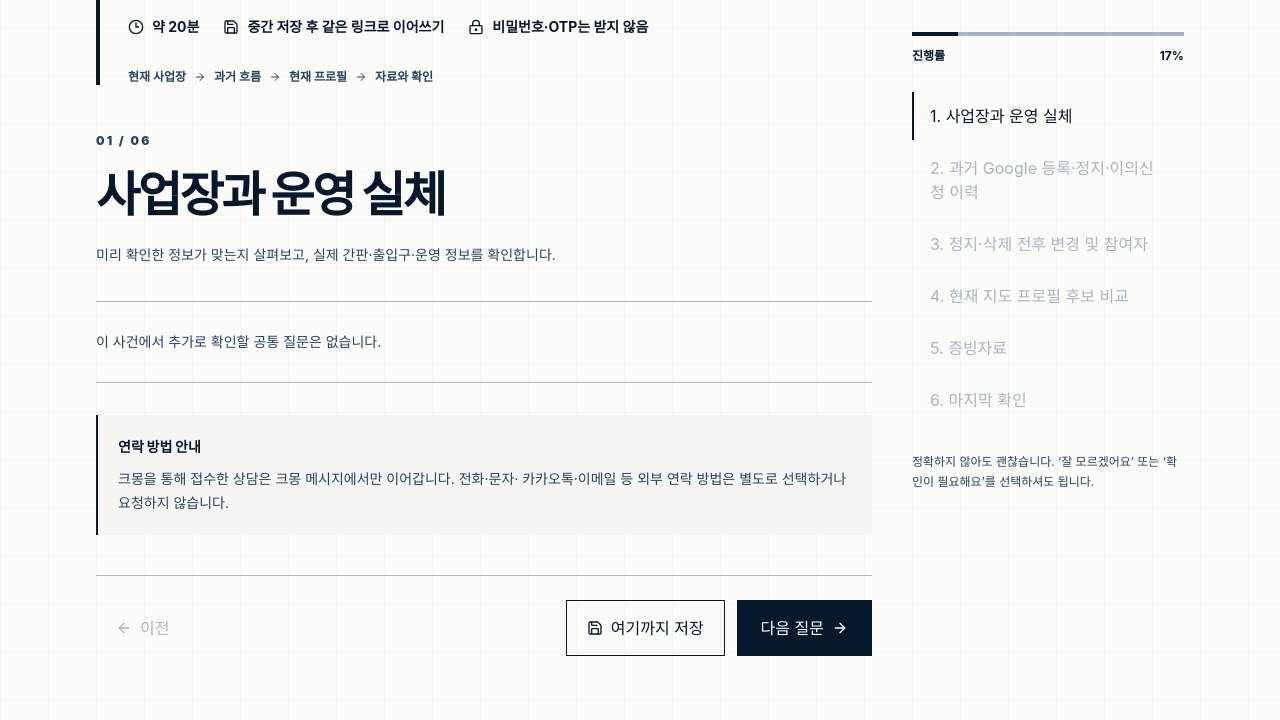
Test case: customer intake step navigation › moves exactly one step for each next click
(page scrolled)
Click the button "다음 질문".
click(804, 628)  # box [737,600,872,656]
(page scrolled)
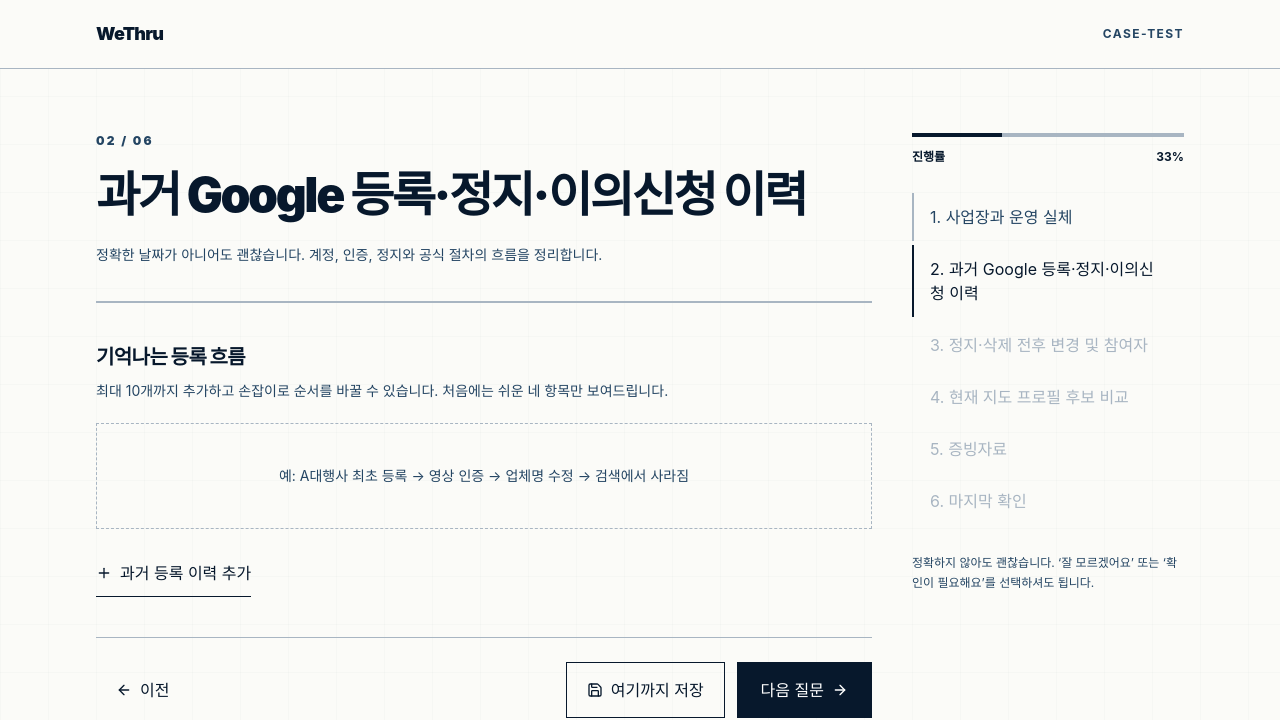
Click the button "다음 질문".
click(804, 690)  # box [737,662,872,718]
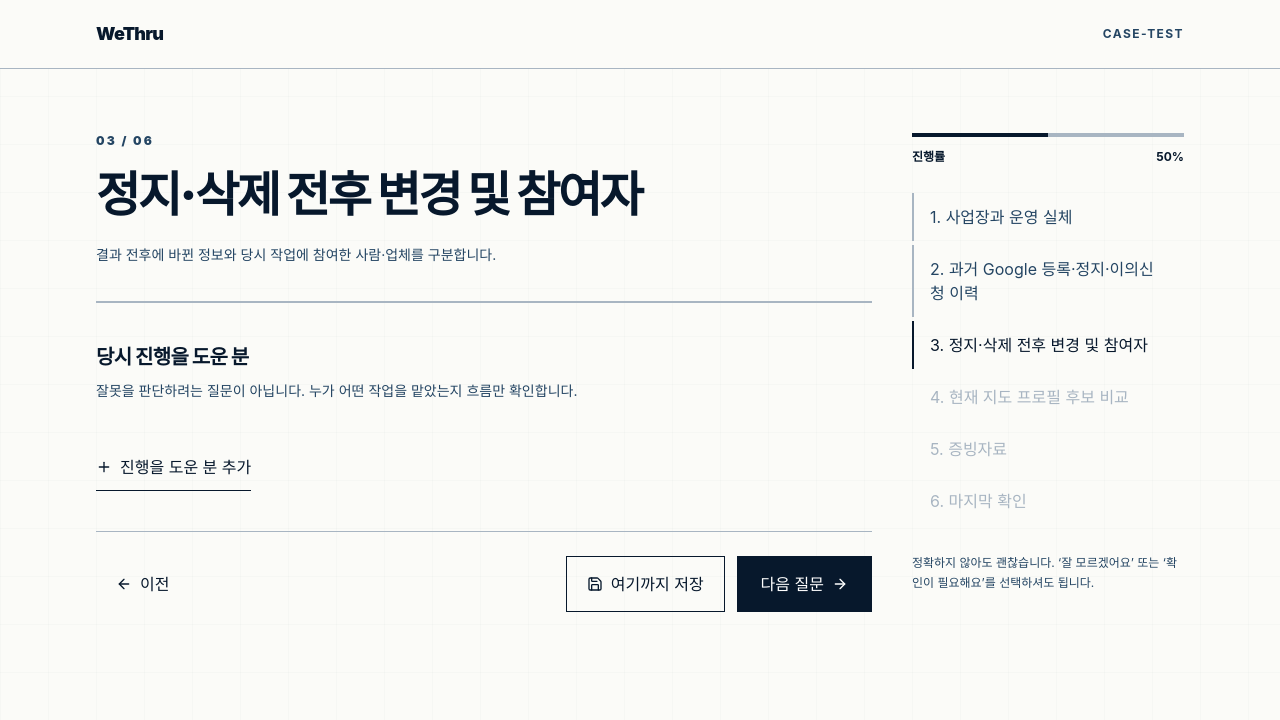
Click the button "다음 질문".
click(804, 584)  # box [737,556,872,612]
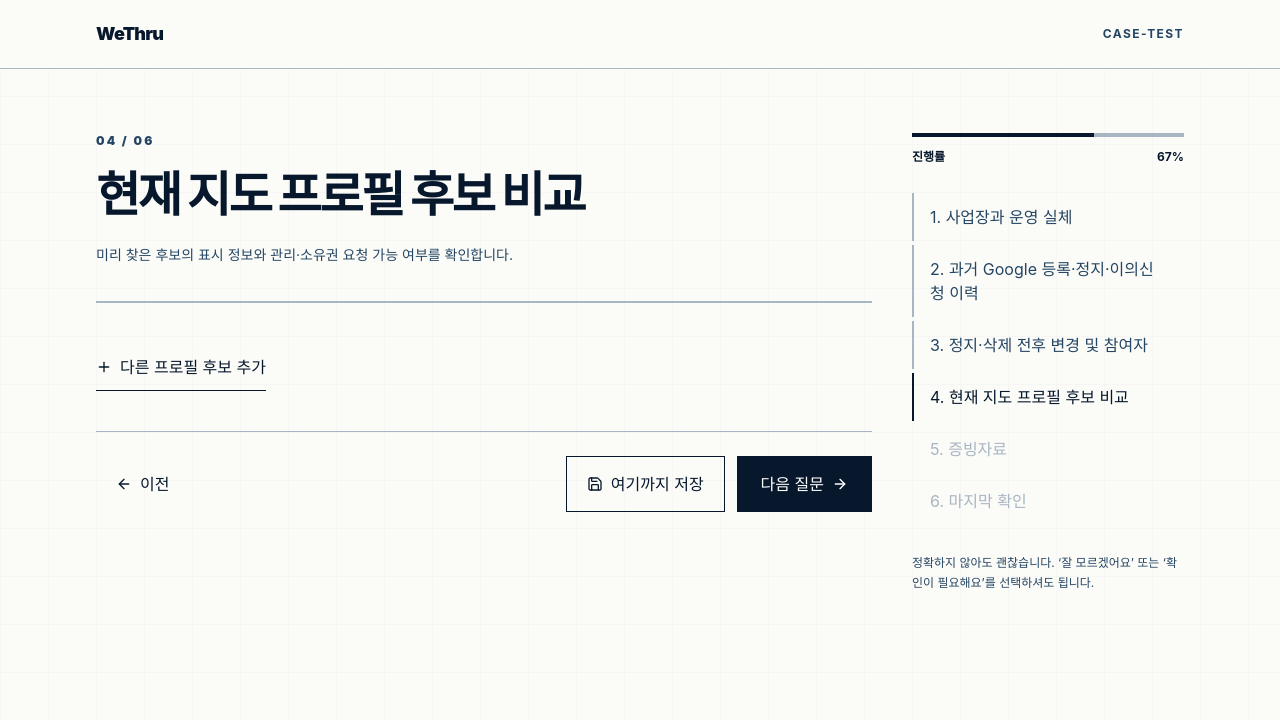
Click the button "다음 질문".
click(804, 484)  # box [737,456,872,512]
(page scrolled)
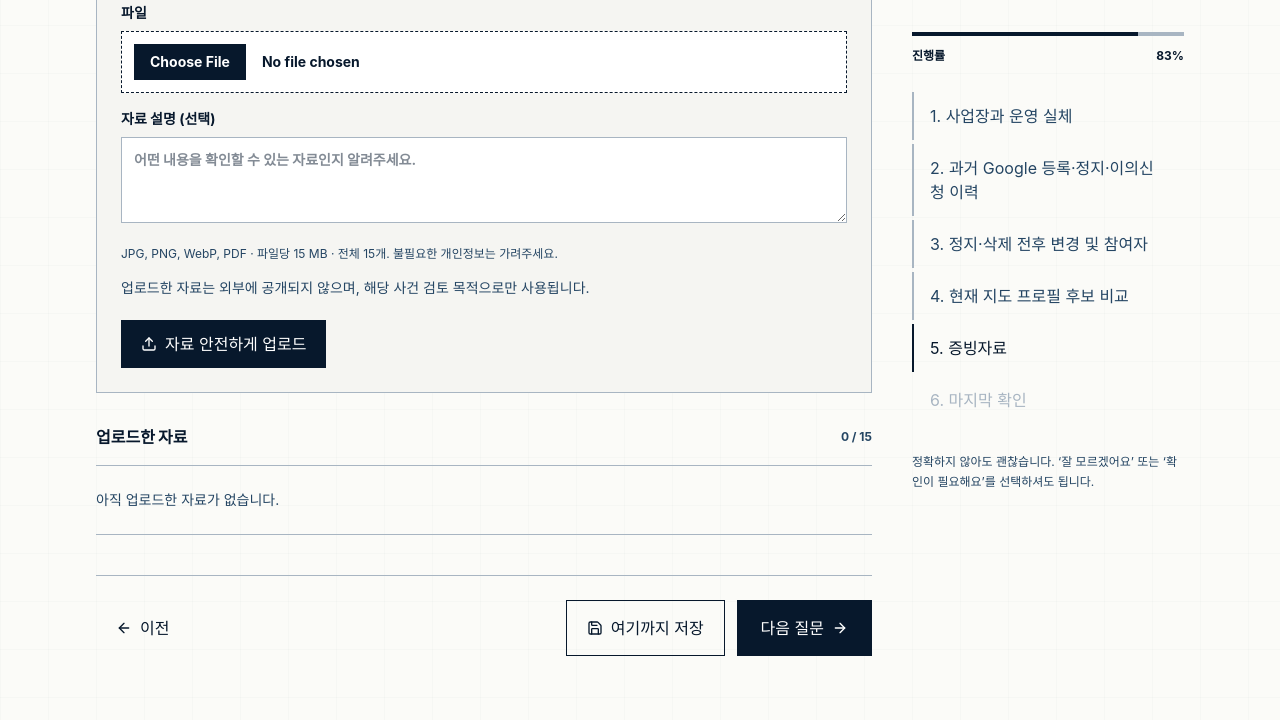
Click the button "다음 질문".
click(804, 628)  # box [737,600,872,656]
(page scrolled)
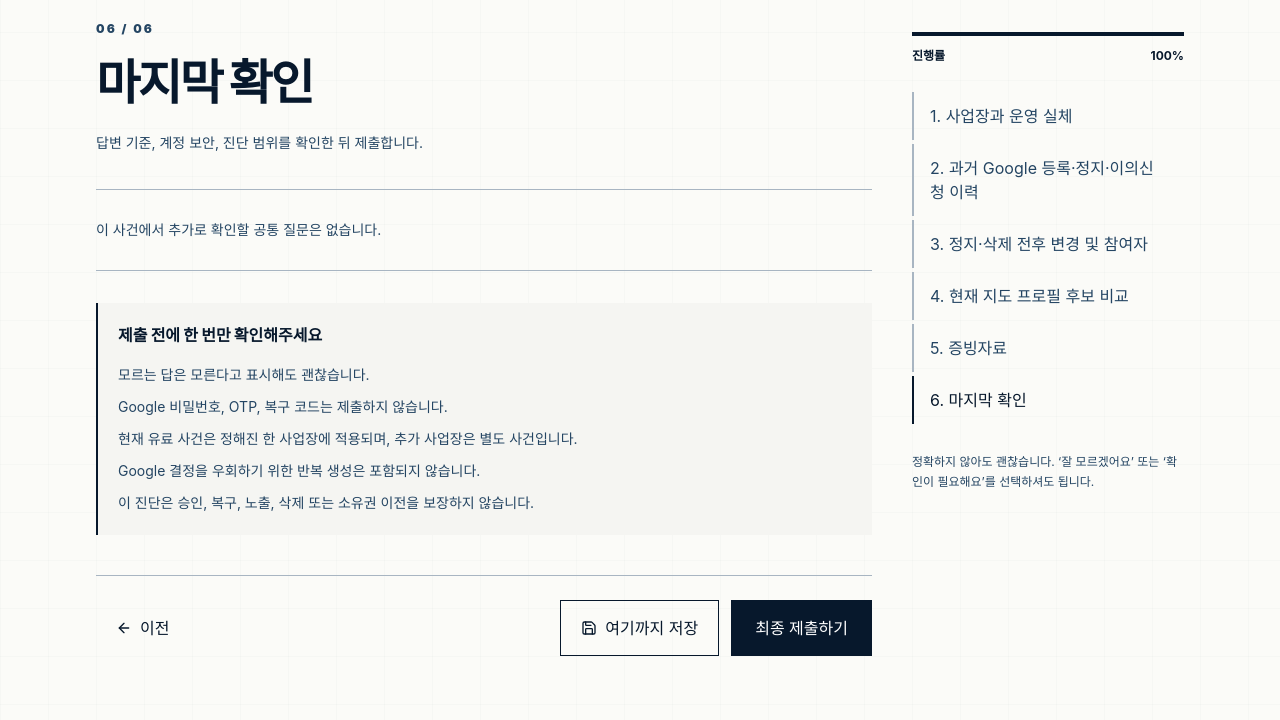
Expected: the button "다음 질문" is gone
Expected: the button "최종 제출하기" is shown, [731,600,872,656]
